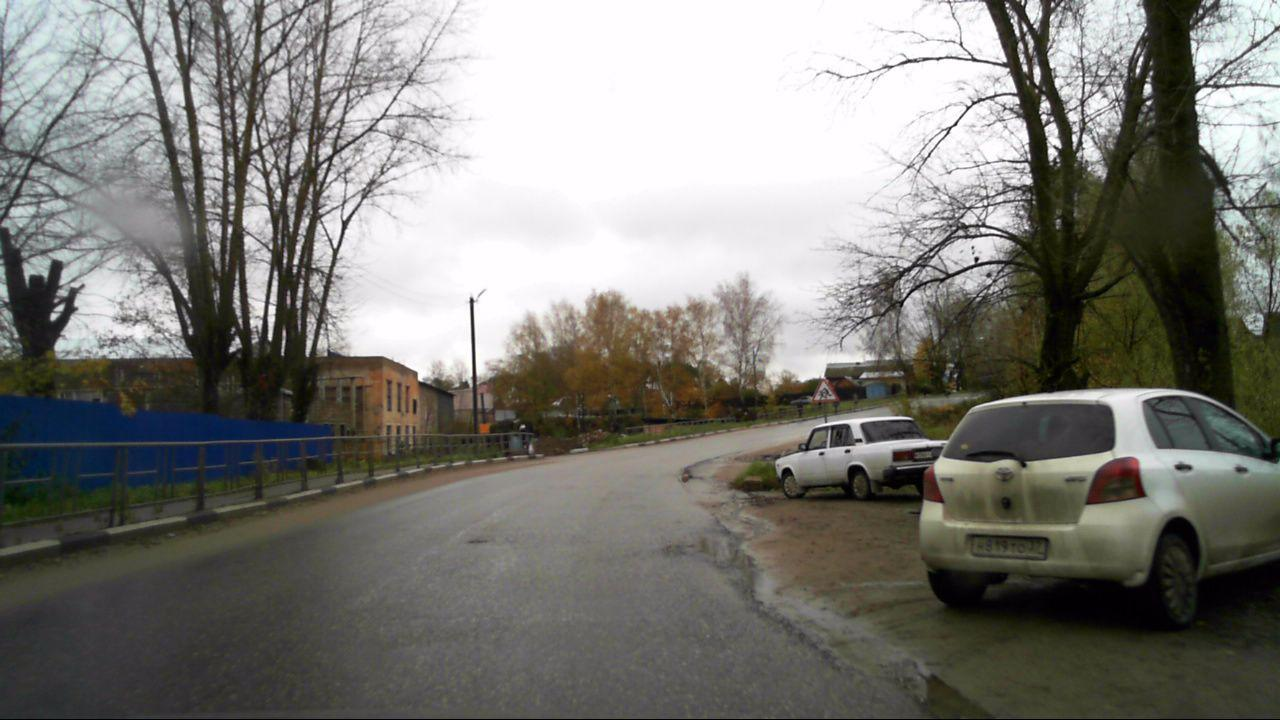road_sign: (810, 377, 842, 403)
